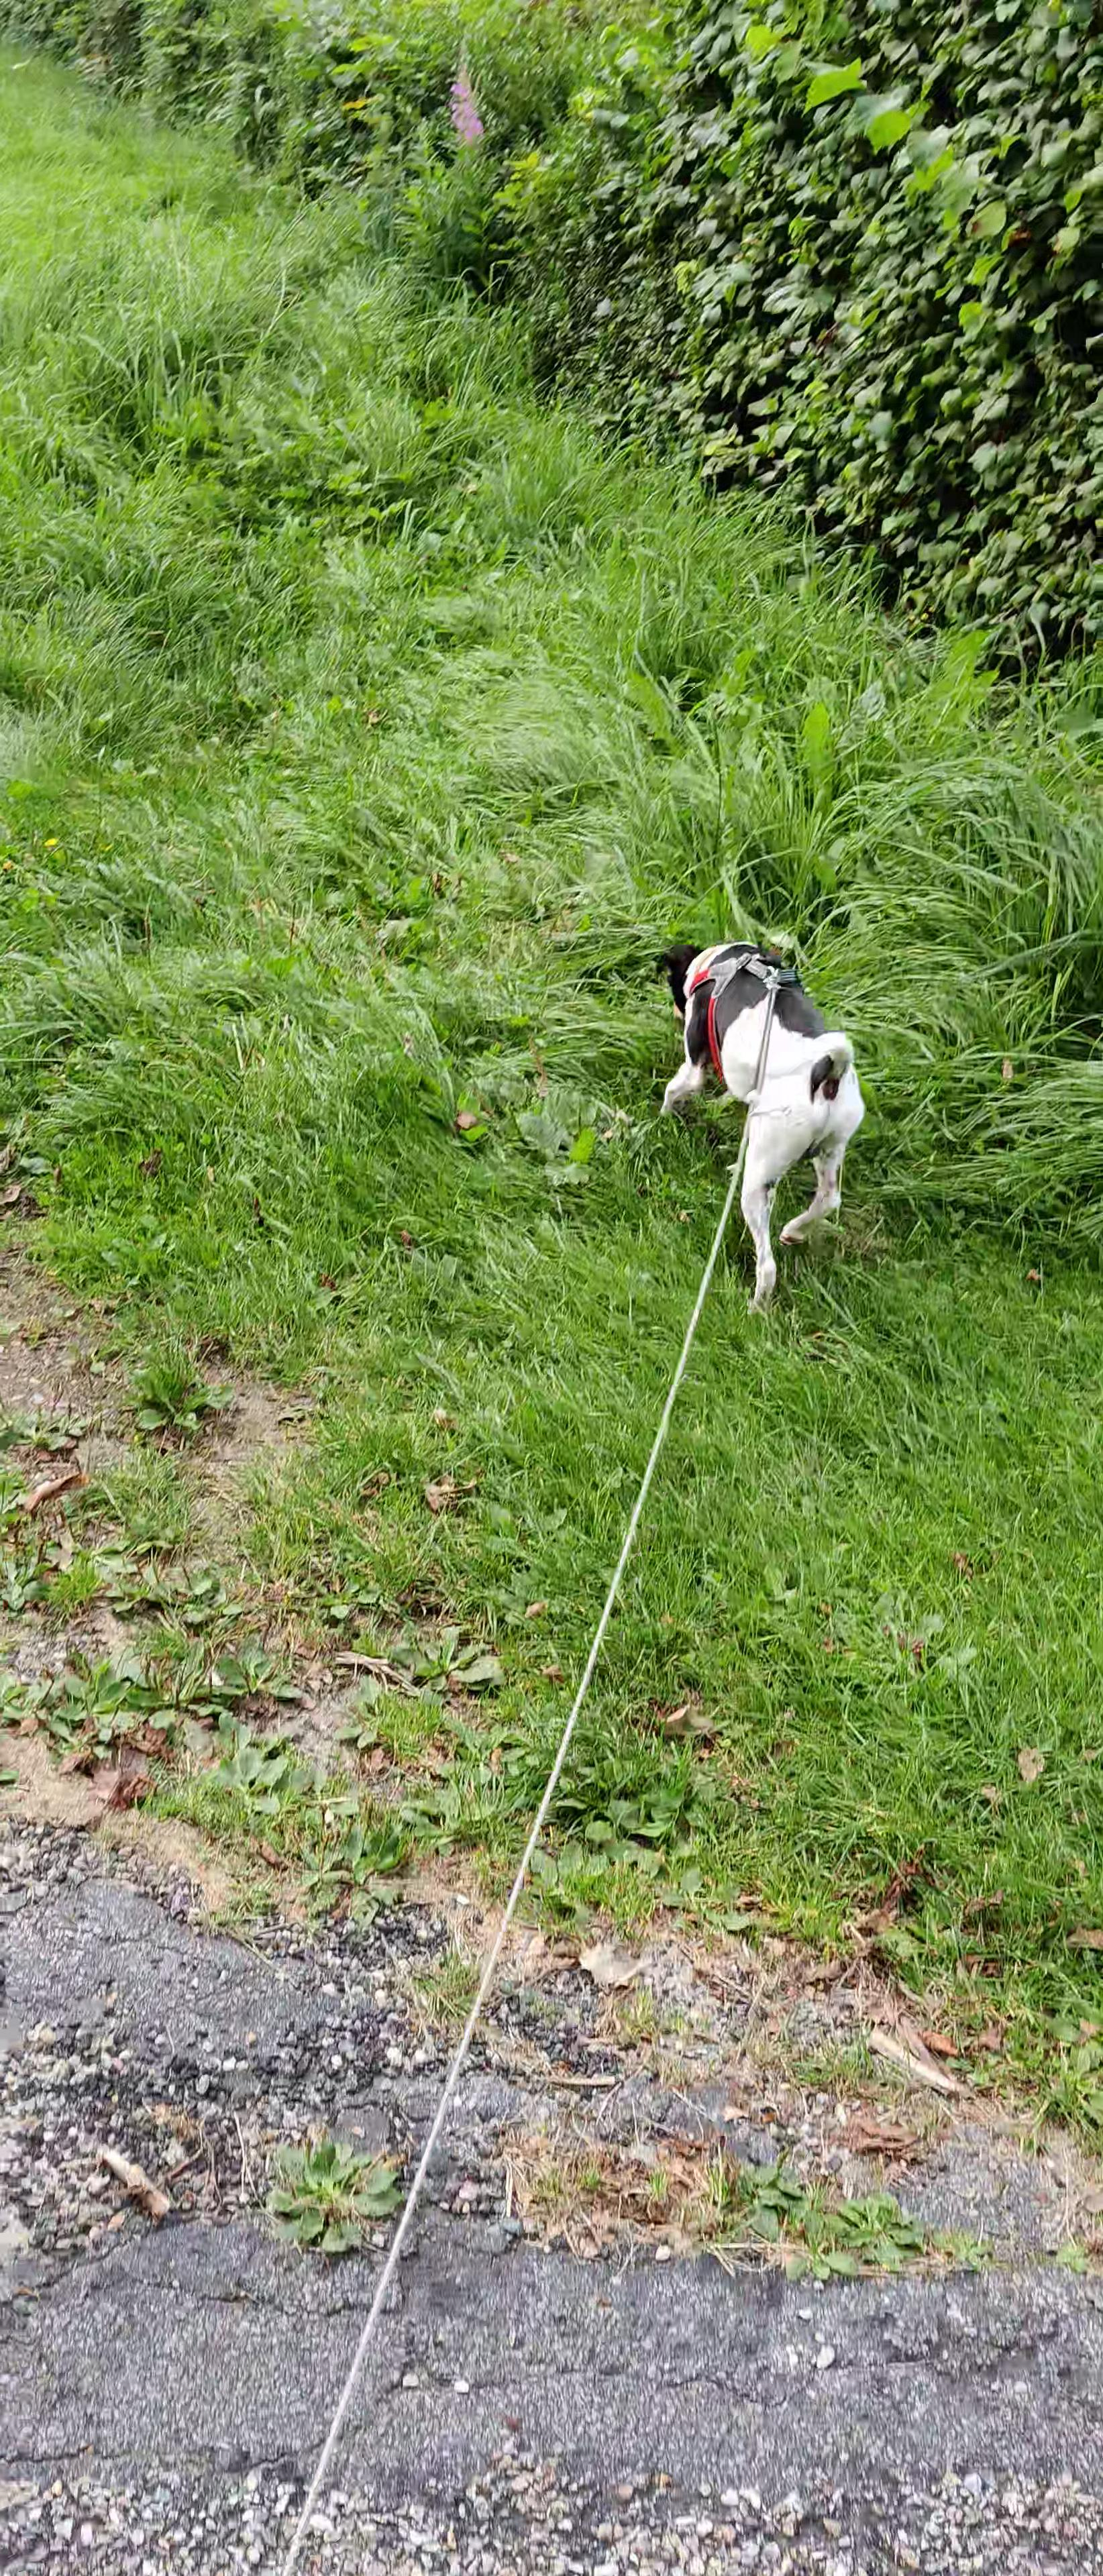Dog: (638, 902, 883, 1332)
